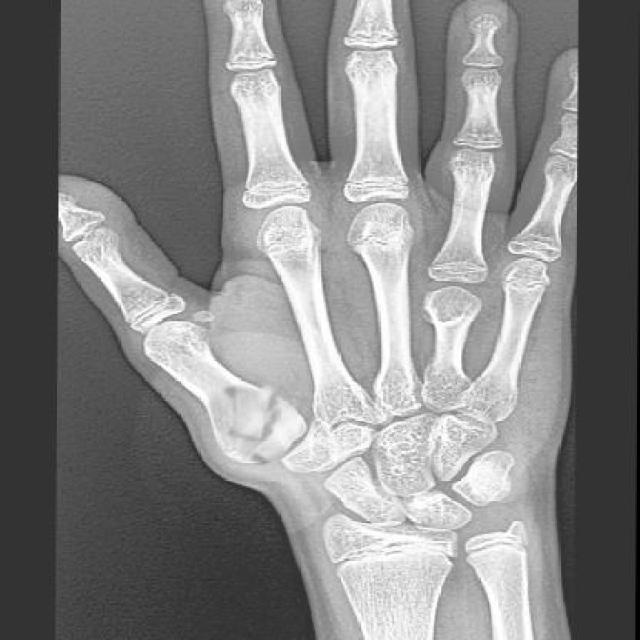Fracture: (213, 376, 301, 467)
